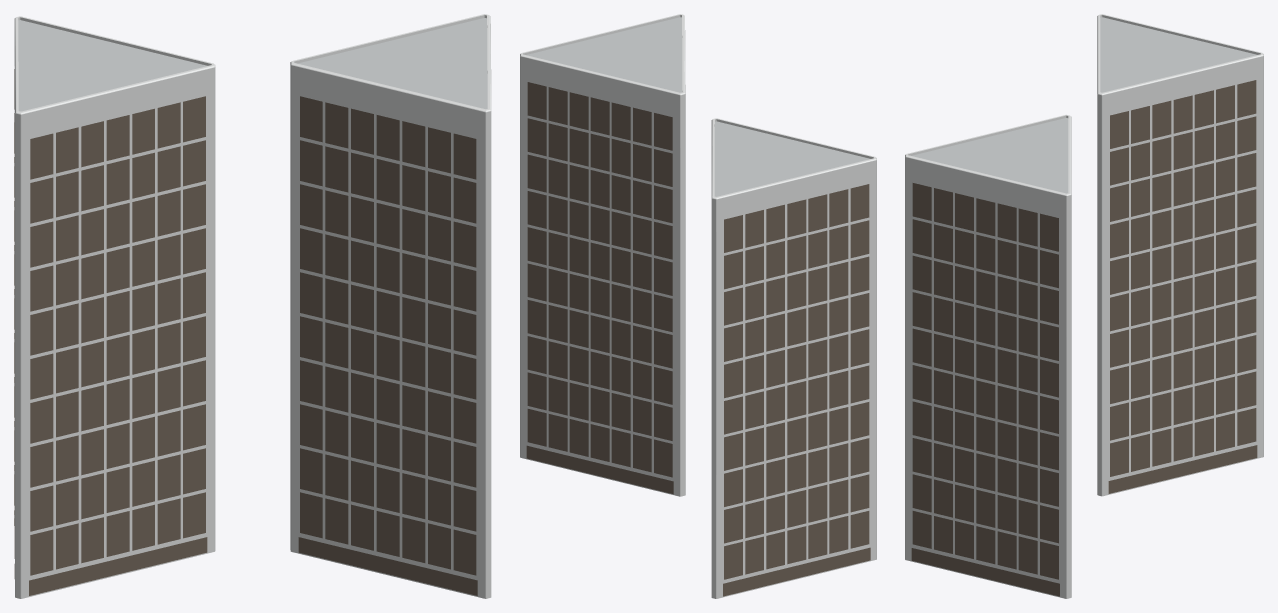
File: la-century-plaza-towers.glb
3 views of the same model, side by side, from view 1: azimuth 30°, elevation 25°; view 2: azimuth 150°, elevation 25°; view 3: azimuth 270°, elevation 25° (orthographic). The views are drawn at different scales.
Parts seen in each view (by area): view 1: Century Plaza Towers; view 2: Century Plaza Towers; view 3: Century Plaza Towers.
Boxes of the visible parts, x1,y1,x2,y2 form: Century Plaza Towers: (14,14,491,598); Century Plaza Towers: (520,14,876,598); Century Plaza Towers: (905,14,1263,598).
Size of the model in its own units: 170 by 175 by 141.
